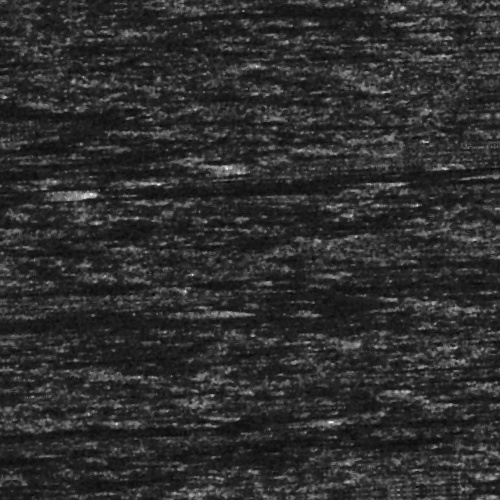object: (39, 177, 122, 194), (246, 417, 339, 428), (164, 305, 269, 314), (191, 156, 274, 167), (326, 185, 399, 194), (369, 10, 422, 17), (472, 32, 500, 43), (0, 119, 14, 134), (385, 25, 426, 30)
shadow: (0, 417, 292, 428), (134, 185, 362, 194), (0, 305, 216, 314), (76, 156, 232, 167), (169, 10, 395, 17), (0, 177, 80, 194), (152, 180, 500, 183), (370, 268, 500, 275), (424, 32, 498, 43), (330, 25, 405, 30), (457, 46, 500, 49)
